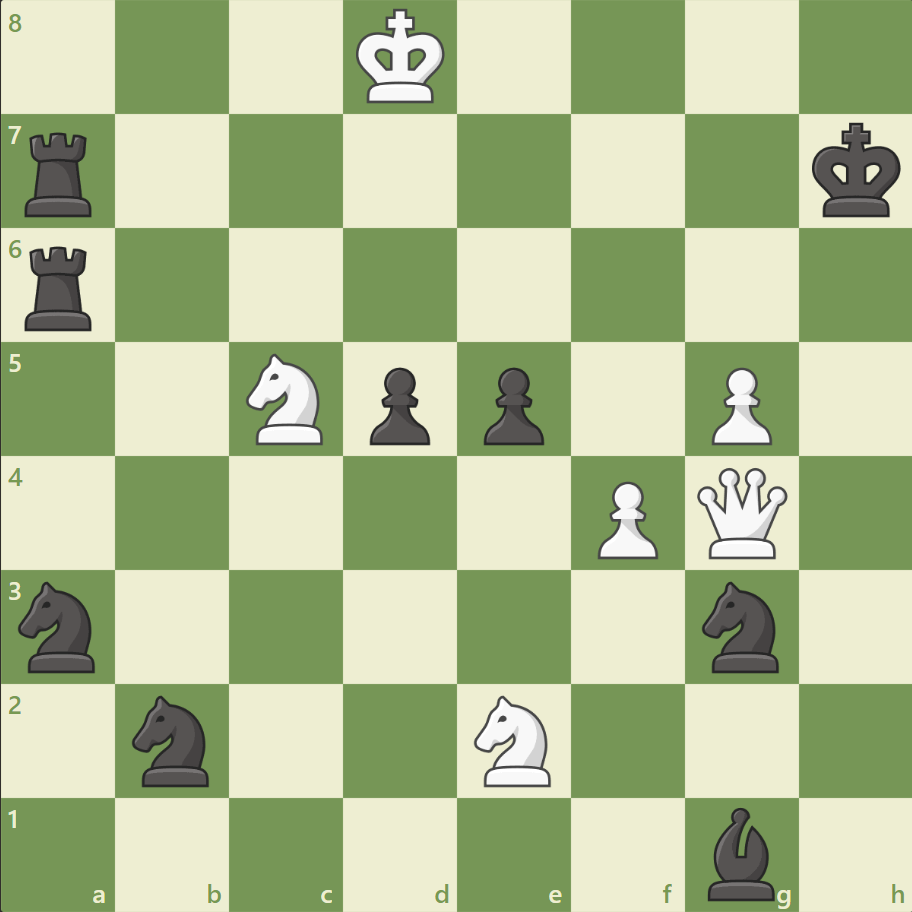K: (351, 4, 451, 112)
N: (465, 688, 562, 791), (238, 348, 335, 450)
P: (701, 359, 776, 450), (588, 473, 662, 564)
Q: (691, 463, 790, 562)
b: (698, 801, 782, 904)
k: (806, 117, 906, 225)
n: (124, 688, 222, 791), (11, 575, 108, 677), (692, 575, 789, 677)
p: (474, 359, 549, 450), (361, 359, 435, 450)
r: (19, 125, 102, 222), (19, 239, 102, 336)
